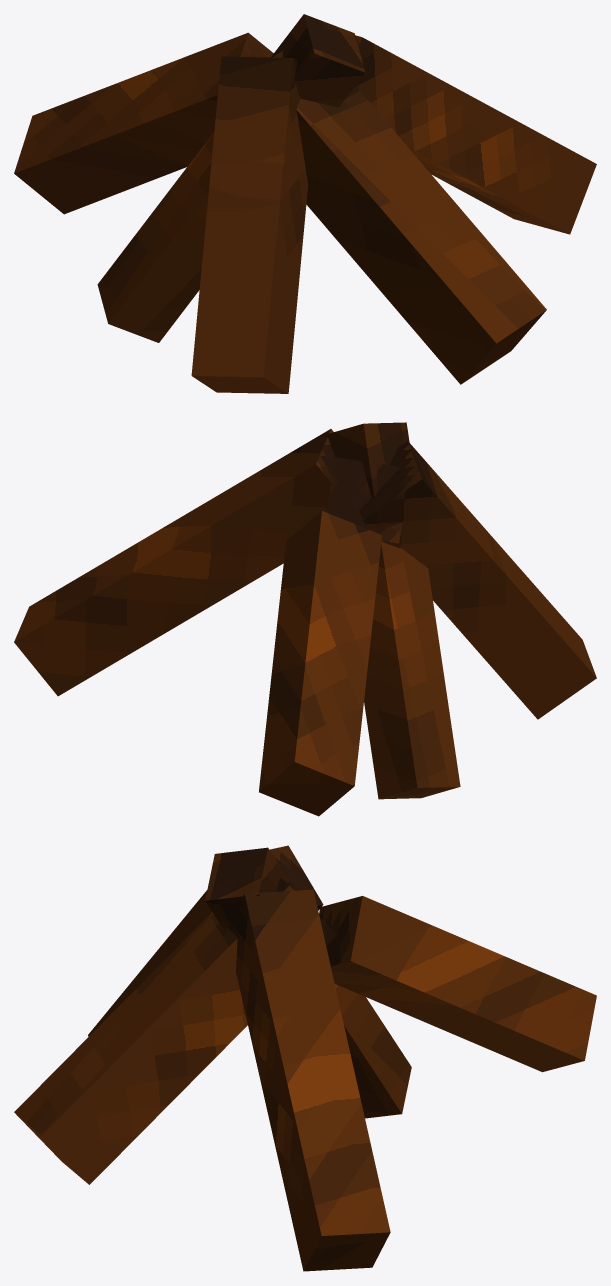
The model's file is PixelCampfire.glb.
3 renders of one model, top to bottom at view 1: azimuth 30°, elevation 25°; view 2: azimuth 150°, elevation 25°; view 3: azimuth 270°, elevation 25°, orthographic. The views are drawn at different scales.
Visible parts, largest first — view 1: Cube; view 2: Cube; view 3: Cube.
Boxes of the visible parts, box(x1,y1,x2,y2) form: Cube: box(14, 14, 596, 393); Cube: box(14, 422, 596, 816); Cube: box(14, 845, 596, 1271).
Bounding box in the file's own units: 6.89 × 4.42 × 7.28.
Materials: 1 (1 with a texture image).
